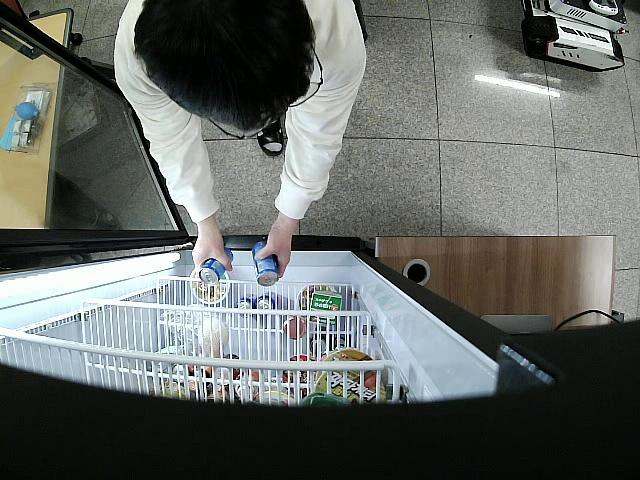00_hand: (191, 233, 233, 279), (254, 225, 291, 277)
15_letsbe: (199, 246, 235, 284), (252, 242, 279, 286)
